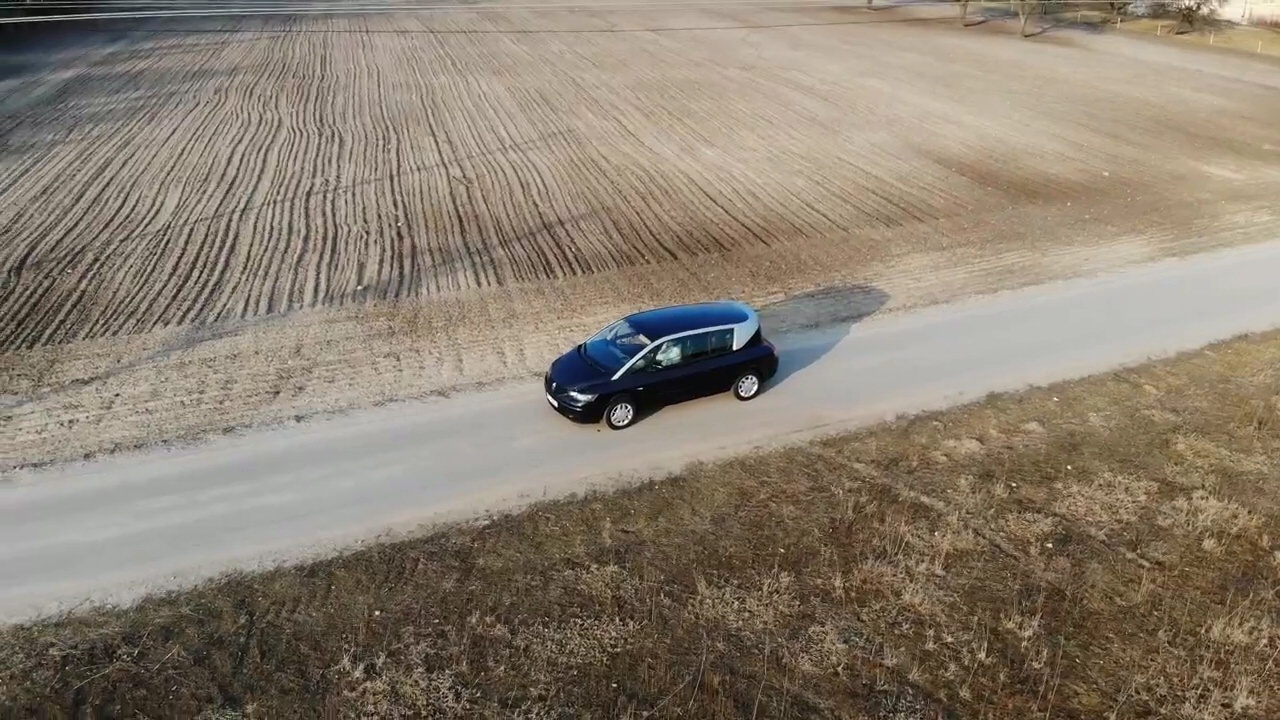araba: (541, 298, 783, 432)
